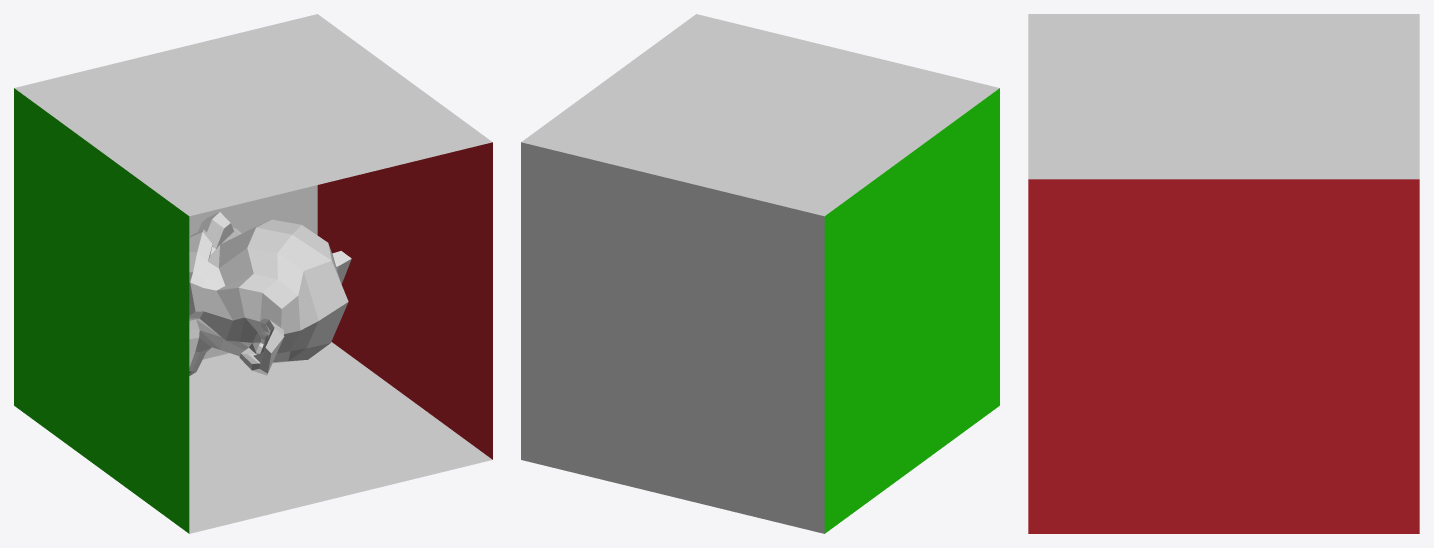
File: cornell_box_monkey.gltf
3 views of the same model, side by side, from view 1: azimuth 30°, elevation 25°; view 2: azimuth 150°, elevation 25°; view 3: azimuth 270°, elevation 25° (orthographic). The views are drawn at different scales.
Visible parts, largest first — view 1: Cube.002, Suzanne; view 2: Cube.002; view 3: Cube.002.
Boxes of the visible parts, x1,y1,x2,y2 form: Cube.002: (14, 14, 492, 533); Suzanne: (189, 212, 351, 375); Cube.002: (521, 14, 999, 533); Cube.002: (1028, 14, 1419, 533).
Bounding box in the file's own units: 2 × 2 × 2.
